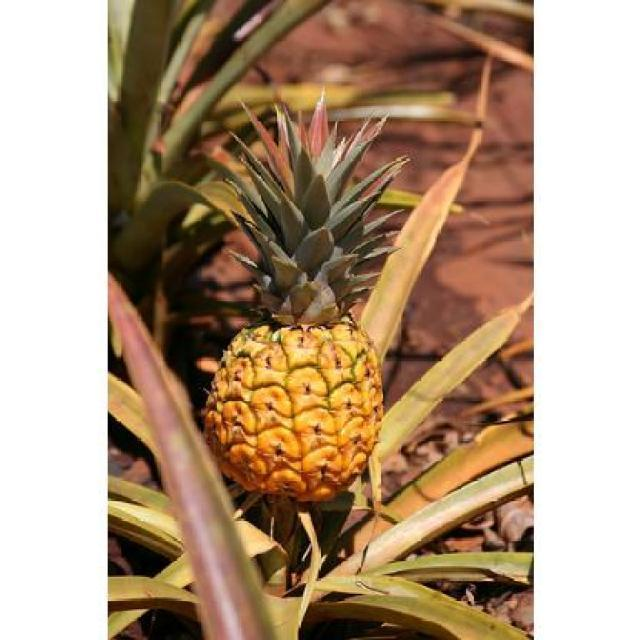Pineapple: (200, 82, 403, 500)
